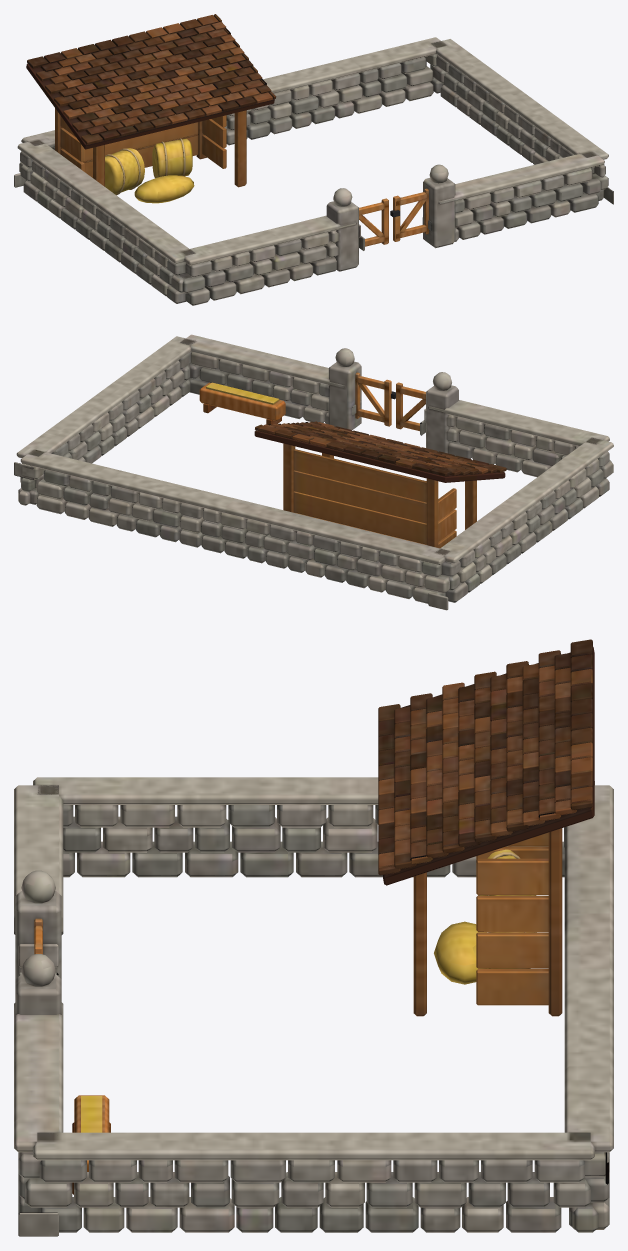
File: highland_pasture.glb
3 renders of one model, top to bottom at view 1: azimuth 30°, elevation 25°; view 2: azimuth 150°, elevation 25°; view 3: azimuth 270°, elevation 25°, orthographic. The views are drawn at different scales.
Visible parts, largest first — view 1: highland_pasture, gate1, gate0; view 2: highland_pasture, gate1, gate0; view 3: highland_pasture.
Boxes of the visible parts, x1,y1,x2,y2 form: highland_pasture: (14,14,613,305); gate1: (390,188,428,241); gate0: (359,198,388,246); highland_pasture: (14,334,613,610); gate1: (355,372,395,426); gate0: (396,382,425,431); highland_pasture: (14,639,613,1236).
Size of the model in its own units: 3.07 by 0.9344 by 2.07.
1 material, 1 textured.
